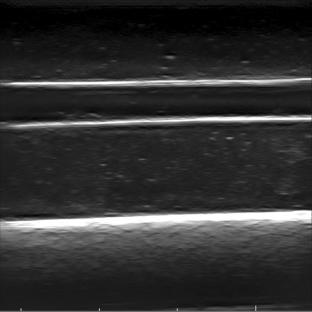vessel: (1, 77, 308, 128)
